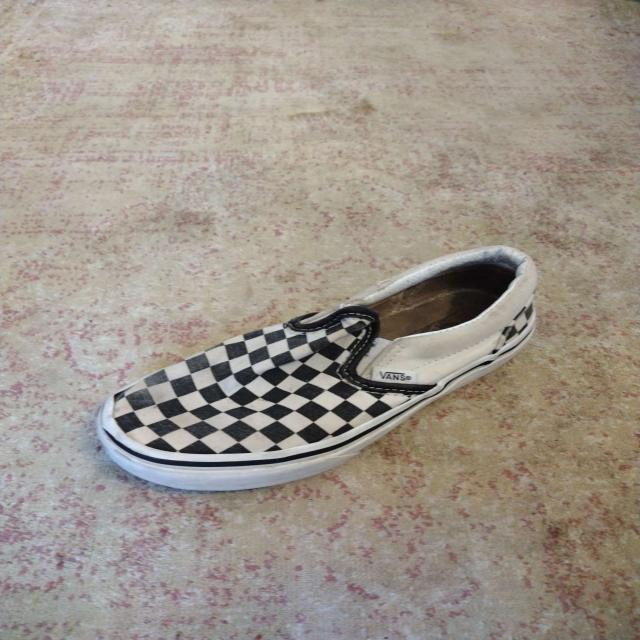shoes: (96, 244, 538, 492)
